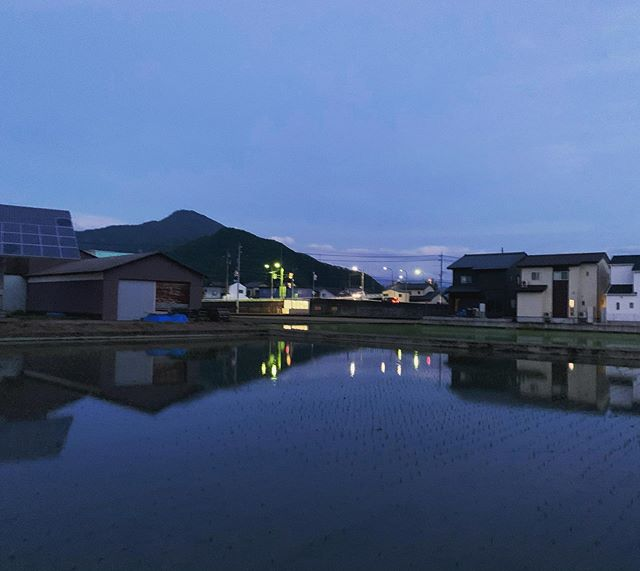building: (32, 243, 202, 331), (522, 241, 608, 327), (437, 239, 523, 325), (374, 275, 442, 309)
mountain: (131, 196, 350, 262)
sky: (1, 1, 628, 235)
